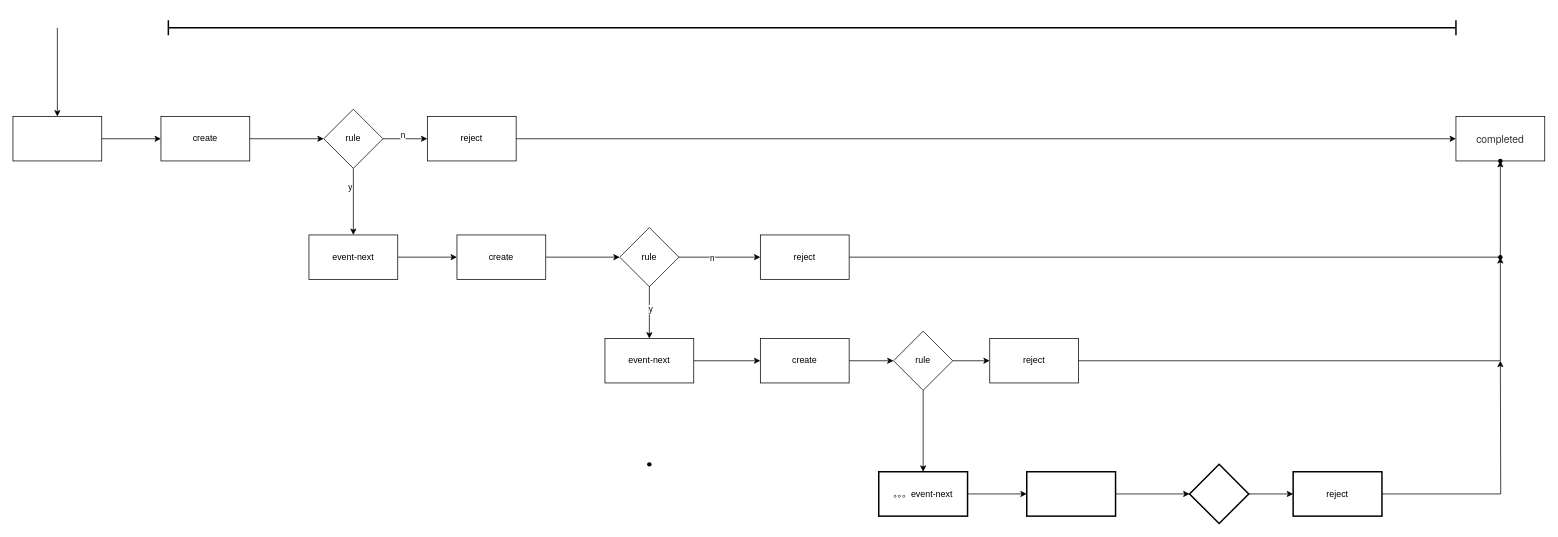
Some shapes in this 1558 by 537 pixel diagram are drawn without their labels. Each missing label, with the centre of its shape:
activited: the point at 811,27
event: the point at 57,138
。。。create: the point at 1071,494
。。。rule: the point at 1218,493
